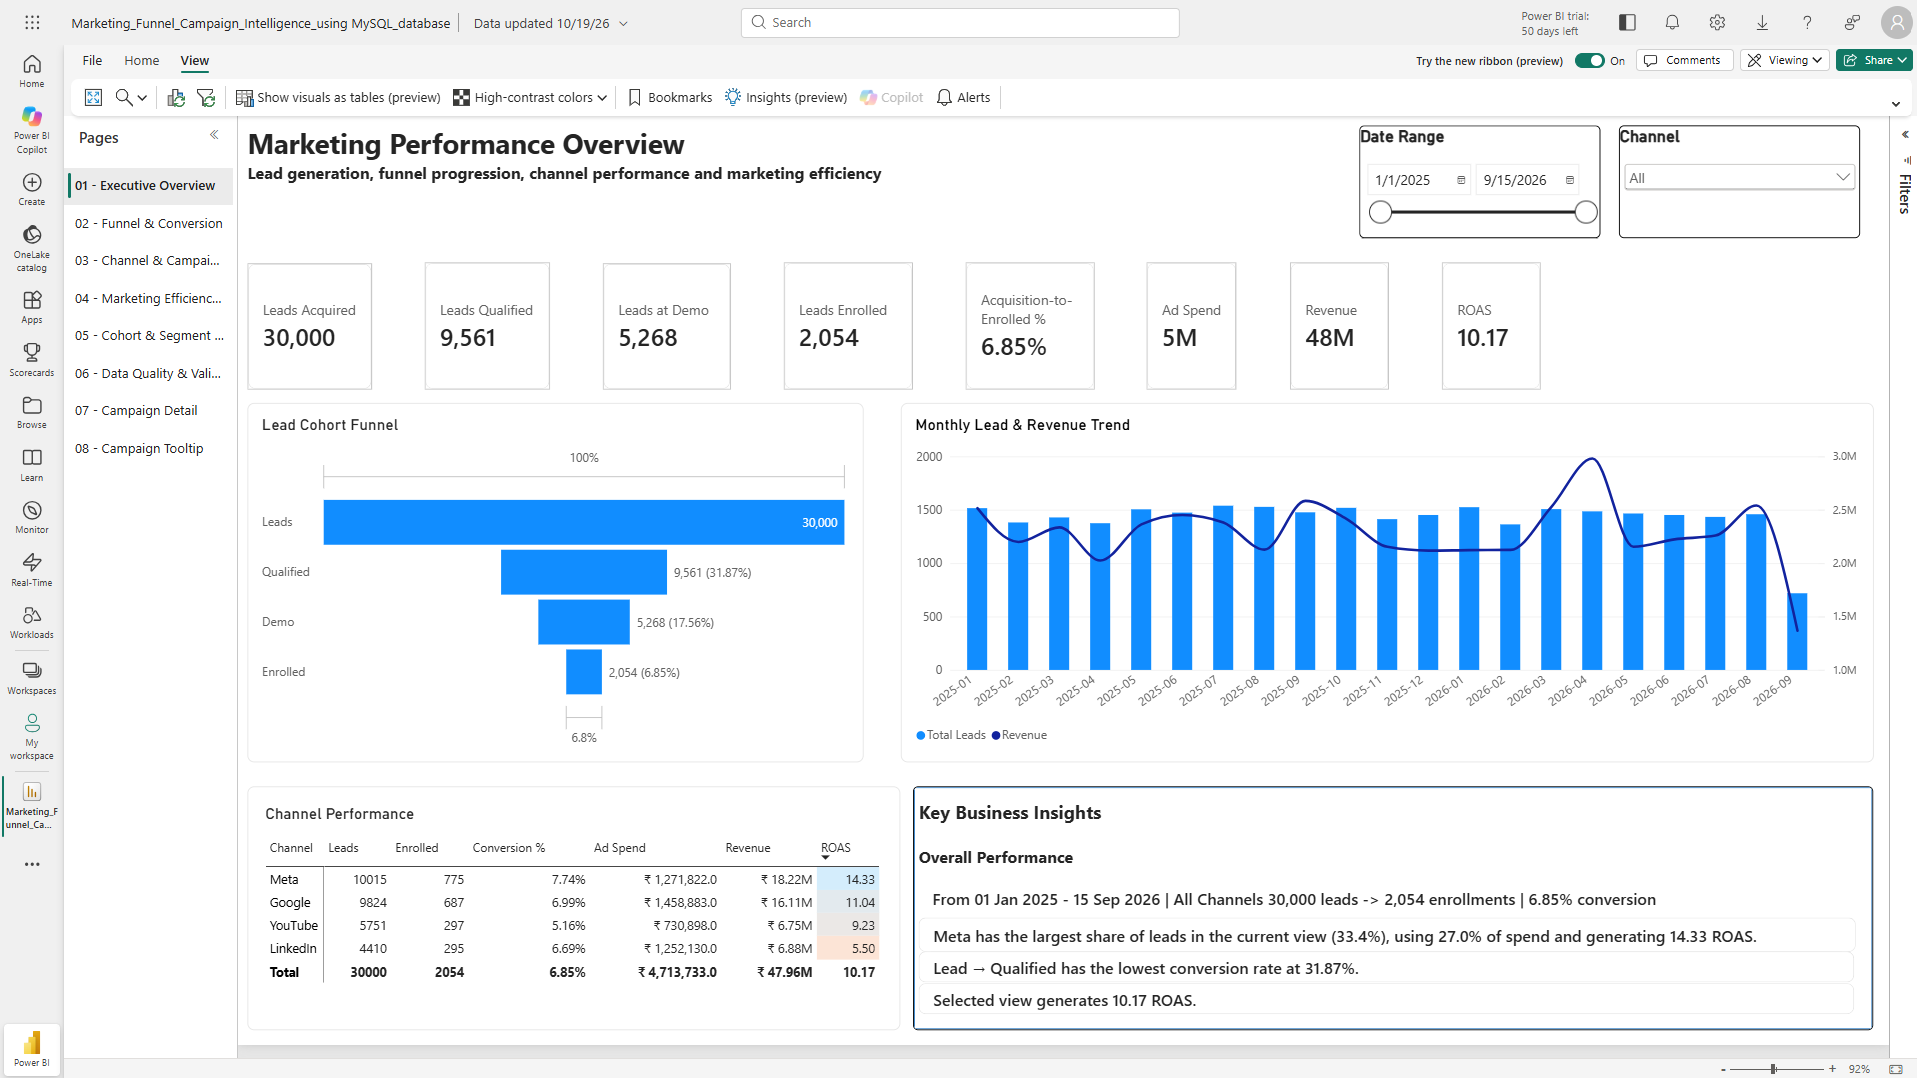

The page's visual inventory and layout, read from the dashboard file:
{"tool":"powerbi","page":{"name":"01 - Executive Overview","canvas":[1920,1080],"ordinal":0},"visuals":[{"type":"slicer","title":"Channel","fields":{"Values":["DimCampaign.Channel"]},"box":[1606,11.1,281,131],"z":0},{"type":"cardVisual","fields":{"Data":["CRMActivity.Revenue"]},"box":[1223.3,170,115.7,148.6],"z":1000},{"type":"cardVisual","fields":{"Data":["CRMActivity.Ad Spend"]},"box":[1056.6,170,105.7,148.6],"z":2000},{"type":"cardVisual","fields":{"Data":["CRMActivity.ROAS"]},"box":[1400,170,115.7,148.6],"z":3000},{"type":"slicer","title":"Date Range","fields":{"Values":["DimDate.Date"]},"box":[1304,11.1,281,131],"z":4000},{"type":"funnel","title":"Lead Cohort Funnel","fields":{"Category":["FunnelStages.Stage"],"Y":["LeadStageHistory.Cohort Funnel Leads"]},"box":[10.8,333.3,716.3,417.7],"z":5000},{"type":"lineClusteredColumnComboChart","title":"Monthly Lead & Revenue Trend","fields":{"Category":["DimDate.YearMonth"],"Y":["CRMActivity.Total Leads"],"Y2":["CRMActivity.Revenue"]},"box":[770.4,333.3,1131.8,417.7],"z":6000},{"type":"pivotTable","title":"Channel Performance","fields":{"Rows":["DimCampaign.Channel"],"Values":["CRMActivity.Total Leads","FactLeads.Cohort Enrolled Leads","FactLeads.Cohort Conversion %","CRMActivity.Ad Spend","CRMActivity.Revenue","CRMActivity.ROAS"]},"box":[10.8,779.1,759.6,283.5],"z":7000},{"type":"textbox","box":[10.8,10,1285.5,132],"z":8000},{"type":"shape","box":[785.6,779.1,1116.7,283.5],"z":9000},{"type":"textbox","box":[792.1,794.2,1066.9,32.5],"z":10000},{"type":"textbox","box":[792.1,848.3,1090.7,36.8],"z":11000},{"type":"cardVisual","fields":{"Data":["FactLeads.KBI Overall Performance"]},"box":[792.1,885.1,1088.6,47.6],"z":12000},{"type":"cardVisual","fields":{"Data":["FactLeads.KBI Channel Performance"]},"box":[792.1,932.7,1090,40],"z":13000},{"type":"cardVisual","fields":{"Data":["FactLeads.KBI Funnel Performance"]},"box":[792.1,971.7,1088,36],"z":14000},{"type":"cardVisual","title":"Total Leads","fields":{"Data":["FactLeads.Cohort Total Leads"]},"box":[10.8,171.2,145.6,147.4],"z":15000},{"type":"cardVisual","fields":{"Data":["FactLeads.Cohort Qualified Leads"]},"box":[217.4,170.6,146,148],"z":16000},{"type":"cardVisual","fields":{"Data":["FactLeads.Cohort Demo Leads"]},"box":[424.4,171.4,149.3,147.2],"z":17000},{"type":"cardVisual","fields":{"Data":["FactLeads.Cohort Enrolled Leads"]},"box":[634.7,170.6,150,148],"z":18000},{"type":"cardVisual","fields":{"Data":["FactLeads.Cohort Conversion %"]},"box":[845.6,170.6,150,148],"z":19000},{"type":"cardVisual","fields":{"Data":["FactLeads.KBI Marketing Efficiency"]},"box":[792.1,1008.5,1088,36],"z":20000}]}

Visuals, with their boxes on the page's 1920x1080 design canvas (x1, y1, x2, y2). These are canvas units, not pixel positions in the 1917x1078 screenshot, which may show the page scaled, cropped or inside an application window:
"Channel" slicer: Rect(1606, 11, 1887, 142)
cardVisual - CRMActivity.Revenue: Rect(1223, 170, 1339, 319)
cardVisual - CRMActivity.Ad Spend: Rect(1057, 170, 1162, 319)
cardVisual - CRMActivity.ROAS: Rect(1400, 170, 1516, 319)
"Date Range" slicer: Rect(1304, 11, 1585, 142)
"Lead Cohort Funnel" funnel: Rect(11, 333, 727, 751)
"Monthly Lead & Revenue Trend" lineClusteredColumnComboChart: Rect(770, 333, 1902, 751)
"Channel Performance" pivotTable: Rect(11, 779, 770, 1063)
textbox: Rect(11, 10, 1296, 142)
shape: Rect(786, 779, 1902, 1063)
textbox: Rect(792, 794, 1859, 827)
textbox: Rect(792, 848, 1883, 885)
cardVisual - FactLeads.KBI Overall Performance: Rect(792, 885, 1881, 933)
cardVisual - FactLeads.KBI Channel Performance: Rect(792, 933, 1882, 973)
cardVisual - FactLeads.KBI Funnel Performance: Rect(792, 972, 1880, 1008)
"Total Leads" cardVisual: Rect(11, 171, 156, 319)
cardVisual - FactLeads.Cohort Qualified Leads: Rect(217, 171, 363, 319)
cardVisual - FactLeads.Cohort Demo Leads: Rect(424, 171, 574, 319)
cardVisual - FactLeads.Cohort Enrolled Leads: Rect(635, 171, 785, 319)
cardVisual - FactLeads.Cohort Conversion %: Rect(846, 171, 996, 319)
cardVisual - FactLeads.KBI Marketing Efficiency: Rect(792, 1008, 1880, 1044)
